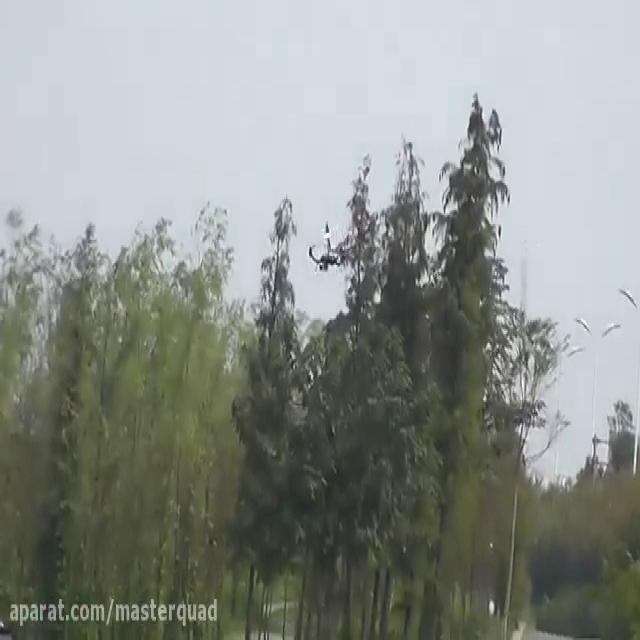drone: (305, 215, 355, 274)
